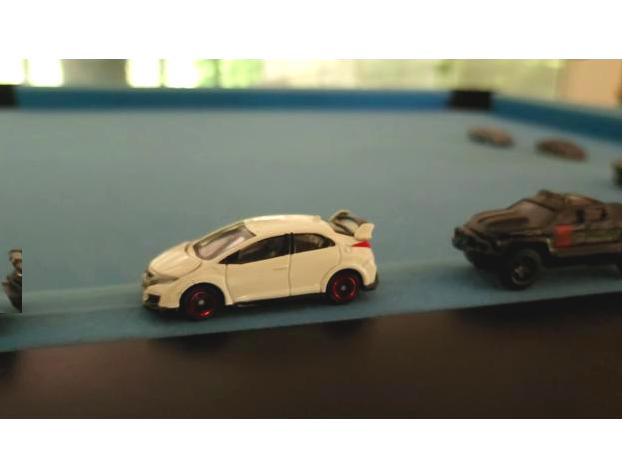toy-car: (141, 209, 380, 321), (450, 187, 622, 290), (0, 245, 22, 313)
